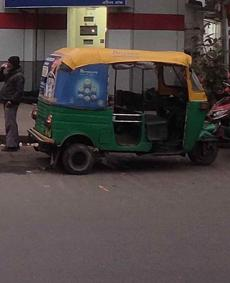Auto: (30, 45, 218, 176)
